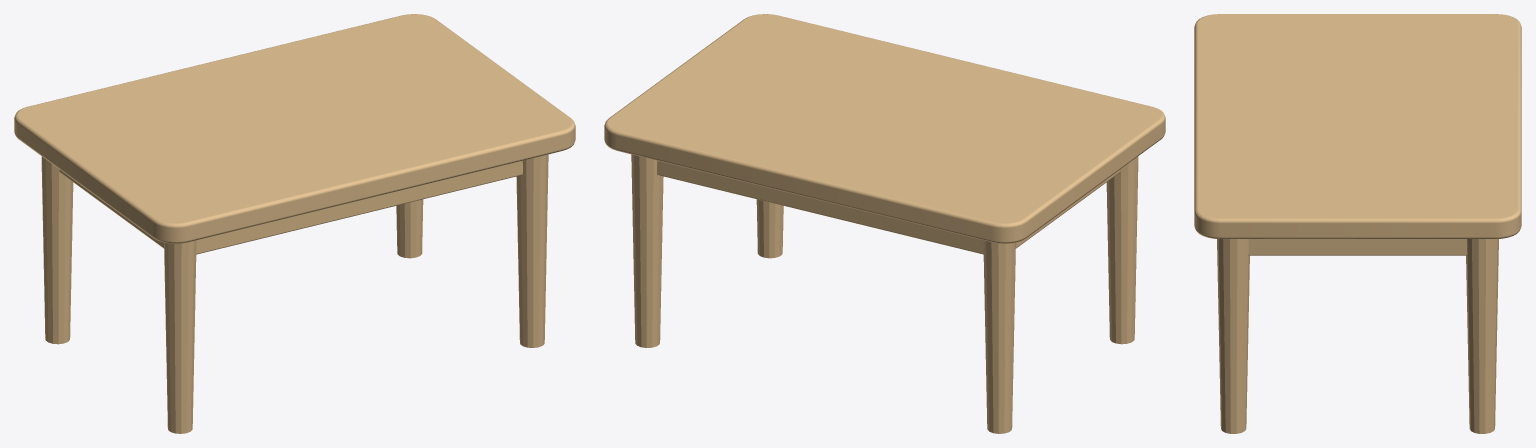
File: table_low_rect__w075.glb
The picture shows the model from 3 angles, left to right: view 1: azimuth 30°, elevation 25°; view 2: azimuth 150°, elevation 25°; view 3: azimuth 270°, elevation 25°; orthographic projection.
Visible parts, largest first — view 1: table_low_rect__w075; view 2: table_low_rect__w075; view 3: table_low_rect__w075.
Boxes of the visible parts, x1=… form: table_low_rect__w075: x1=14, y1=14, x2=575, y2=433; table_low_rect__w075: x1=604, y1=14, x2=1165, y2=433; table_low_rect__w075: x1=1194, y1=14, x2=1521, y2=433.
Bounding box in the file's own units: 0.75 × 0.38 × 0.5.
